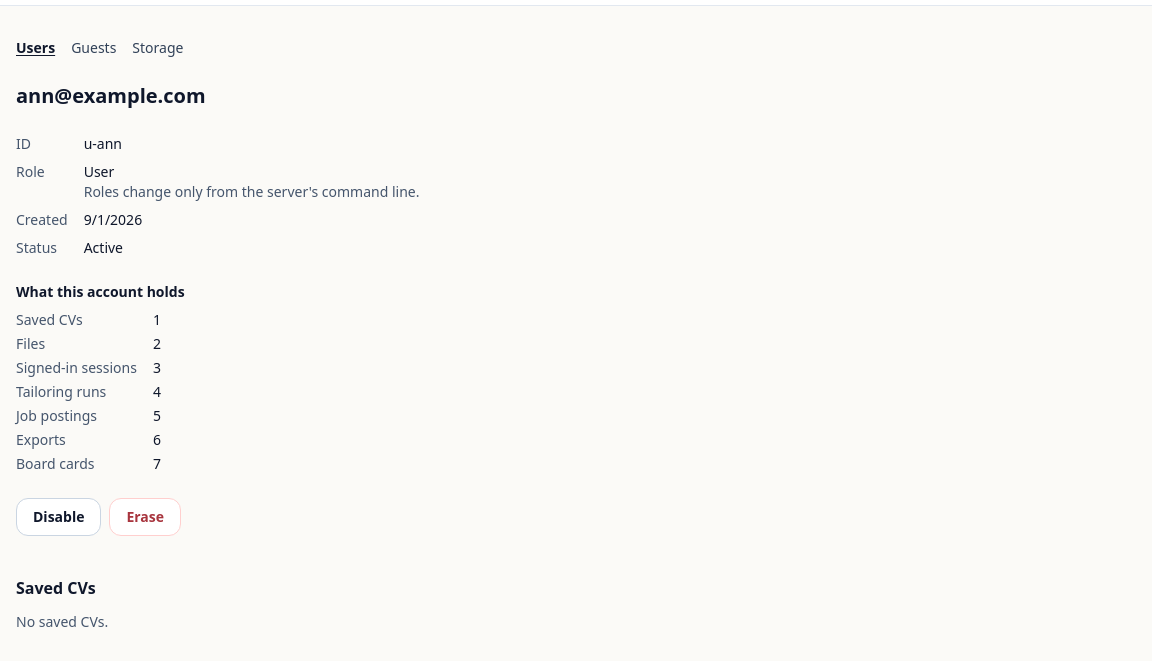
Test: Erase — AC-35 › a 404 on the erase says "This account no longer exists."
Click the button "Erase".
click(145, 517)  # box top-left (110, 498), bottom-right (181, 536)
(page scrolled)
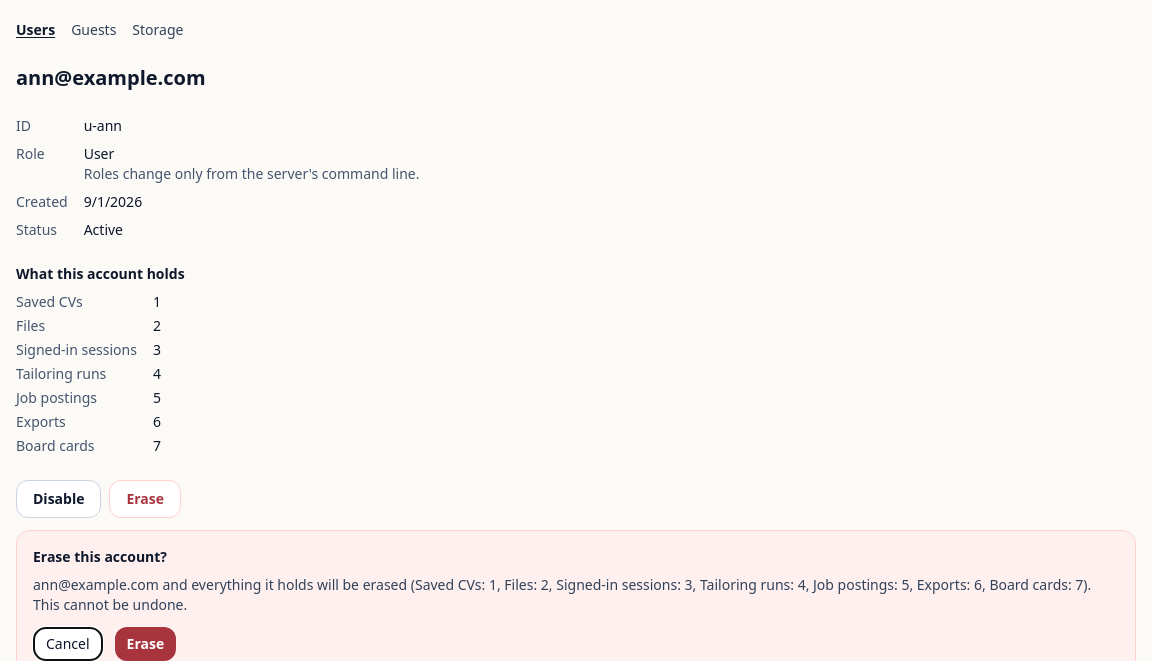
Click the button "Erase" below "Erase this account?".
click(145, 644)  # box top-left (115, 627), bottom-right (176, 660)
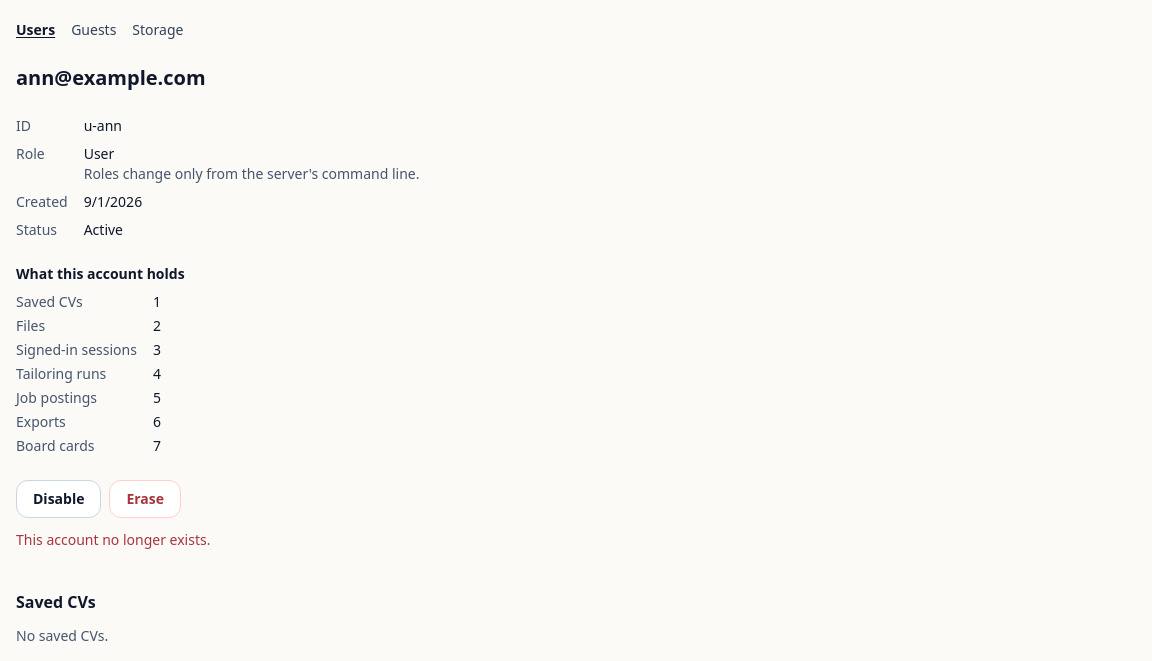
Now the text "This account no longer exists." is shown, box top-left (16, 530), bottom-right (210, 549)
